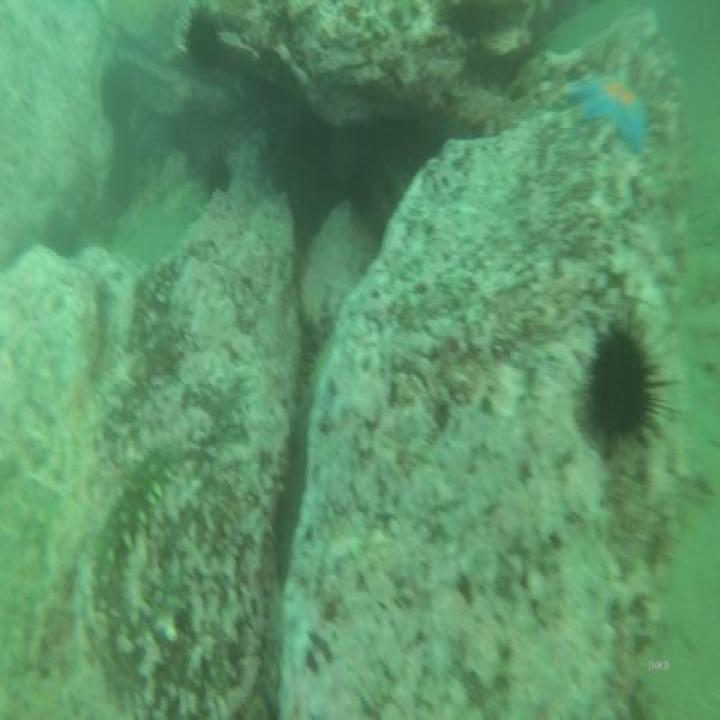echinus: (580, 311, 657, 459), (176, 2, 223, 78)
holothurian: (93, 438, 176, 590)
starfish: (562, 68, 654, 154)
